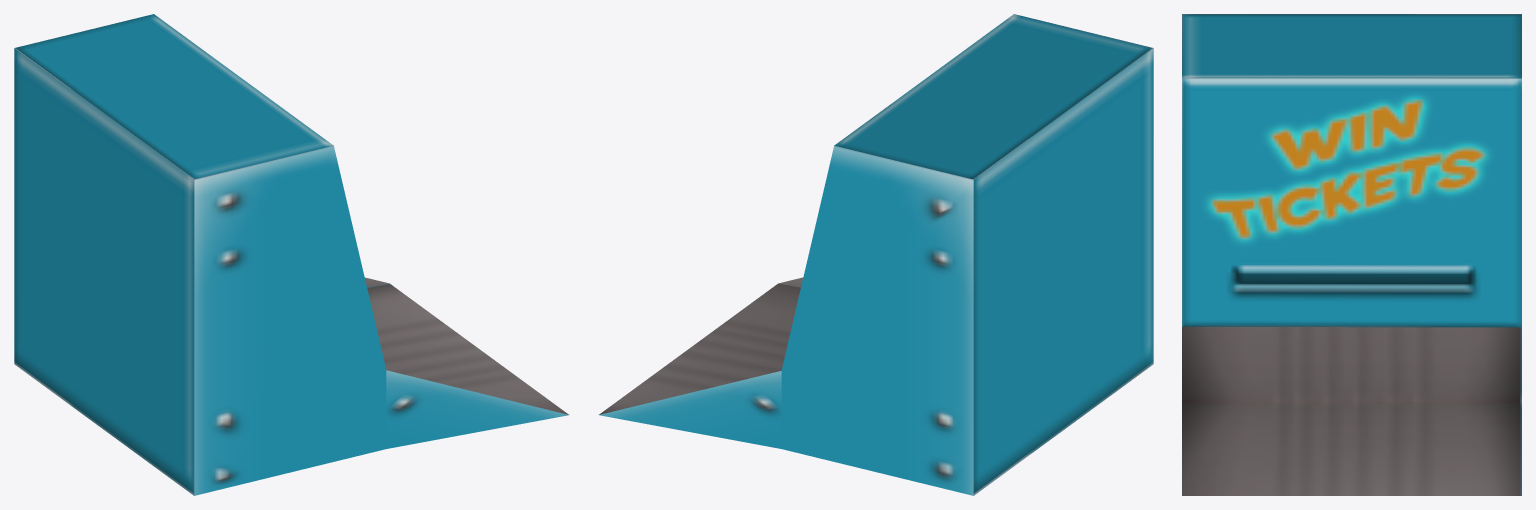
File: ticketmachine03.glb
The picture shows the model from 3 angles, left to right: view 1: azimuth 30°, elevation 25°; view 2: azimuth 150°, elevation 25°; view 3: azimuth 270°, elevation 25°; orthographic projection. The views are drawn at different scales.
Visible parts, largest first — view 1: ticketmachine03; view 2: ticketmachine03; view 3: ticketmachine03.
Part boxes in pixels (left/top/right/bottom): ticketmachine03: left=14, top=14, right=568, bottom=495; ticketmachine03: left=599, top=14, right=1153, bottom=495; ticketmachine03: left=1182, top=14, right=1521, bottom=495.
Size of the model in its own units: 61.22 by 50.96 by 50.8.
1 material, 1 textured.
